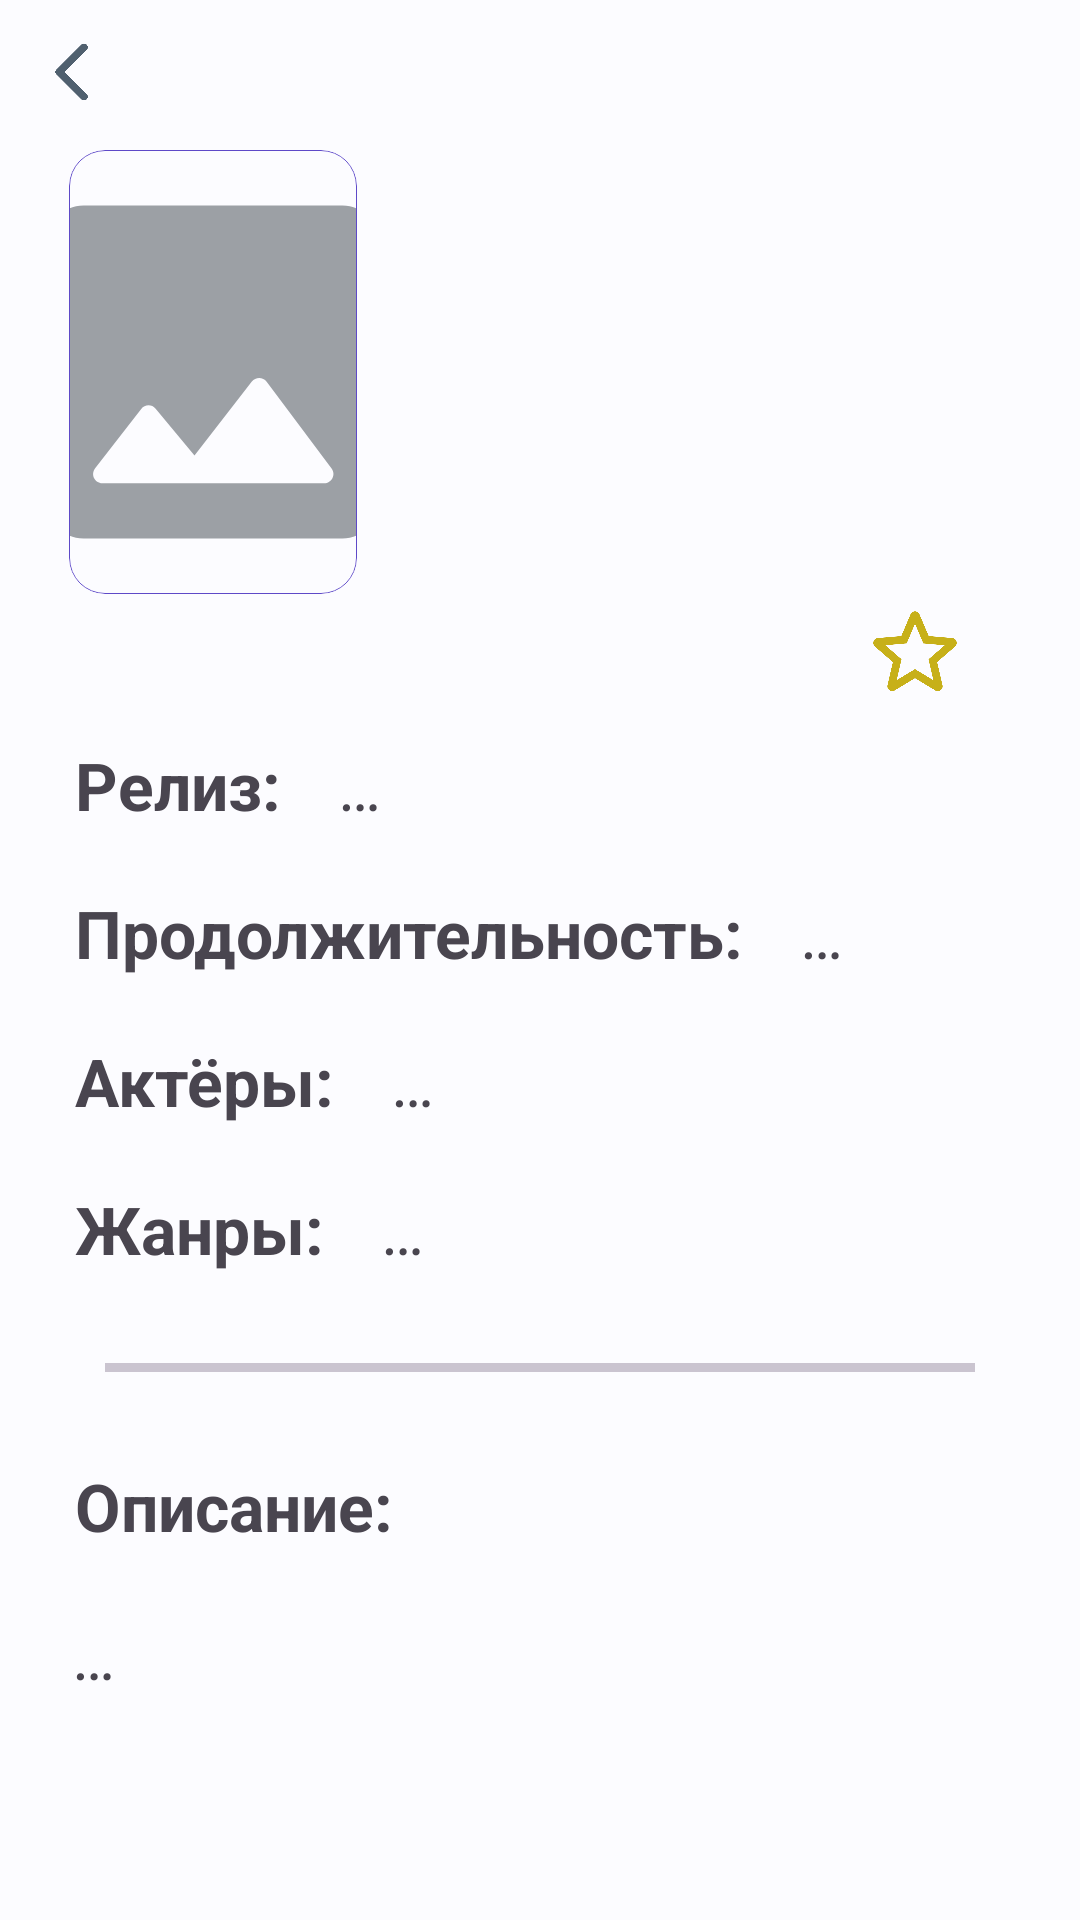

Screen size 1080px×1920px. Icon name, then its center in pixels as point (x, y):
arrow back: point (71, 72)
star border: point (915, 651)
